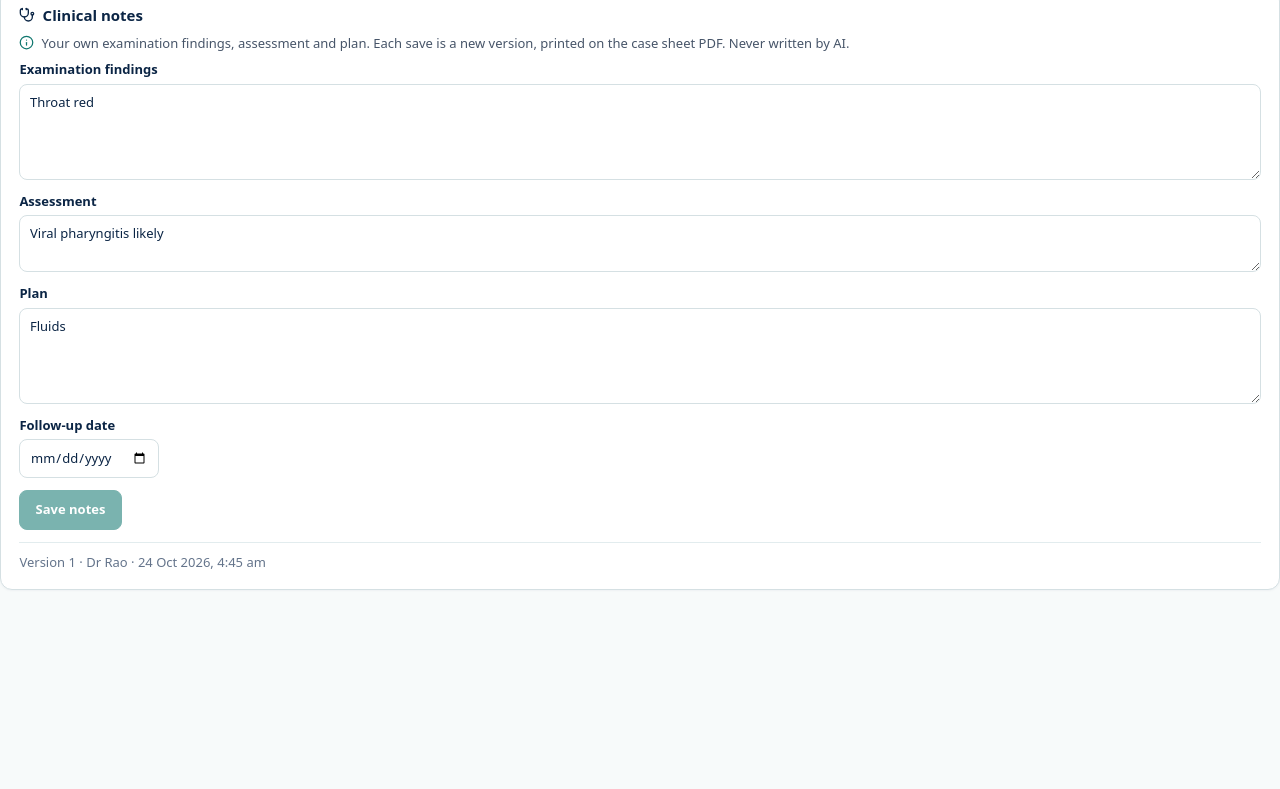
Test case: Doctor's notes panel › keeps the doctor's text when someone else saved meanwhile, and shows theirs
Replace the text in the text box labelled "Plan" with "Paracetamol as needed" at (640, 356), box [19,308,1261,404]
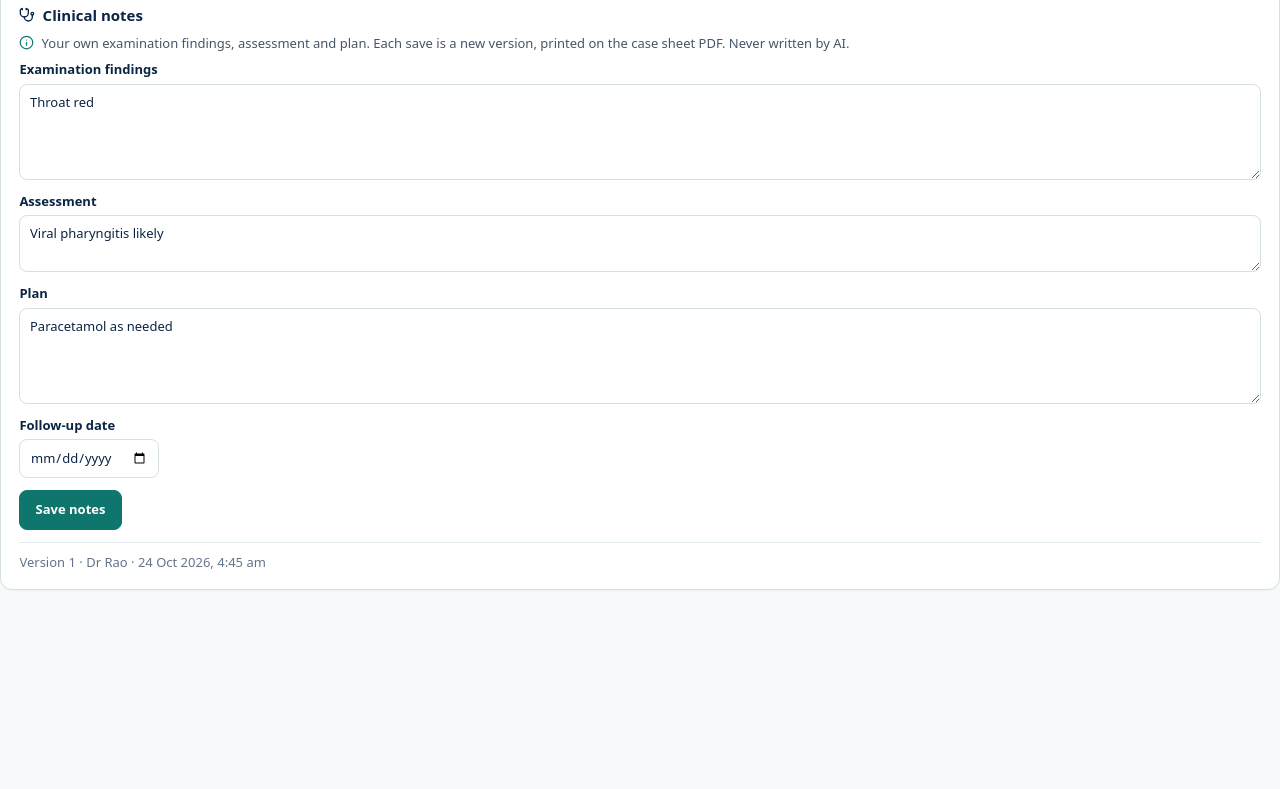
Click the button "Save notes" at (70, 510), box [19,490,122,530]
(page scrolled)
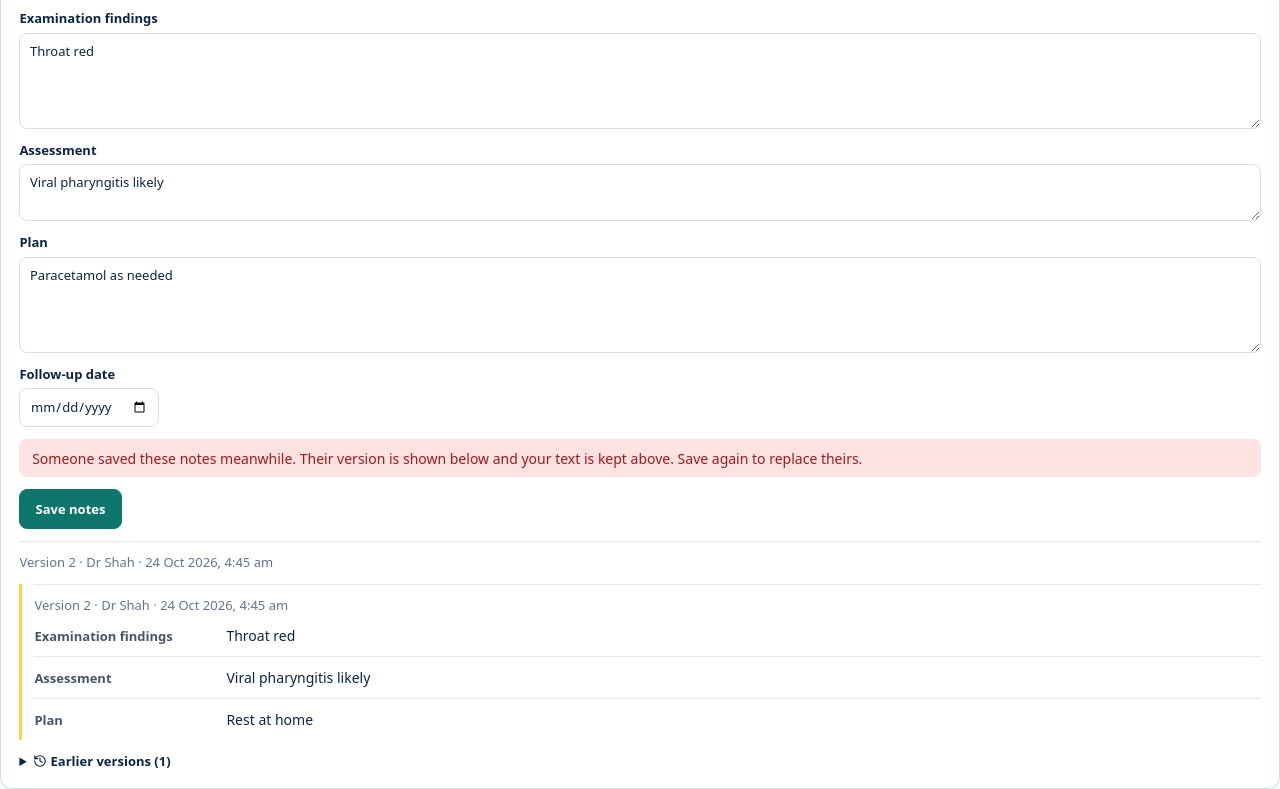
Result: the message shows "Someone saved these notes" at [32,449,862,468]
Result: the 1st text "Version 2 · Dr Shah · 24 Oct 2026, 4:45 am" is shown at [19,541,1261,572]
Result: the text "Rest at home" is shown at [226,710,313,729]
